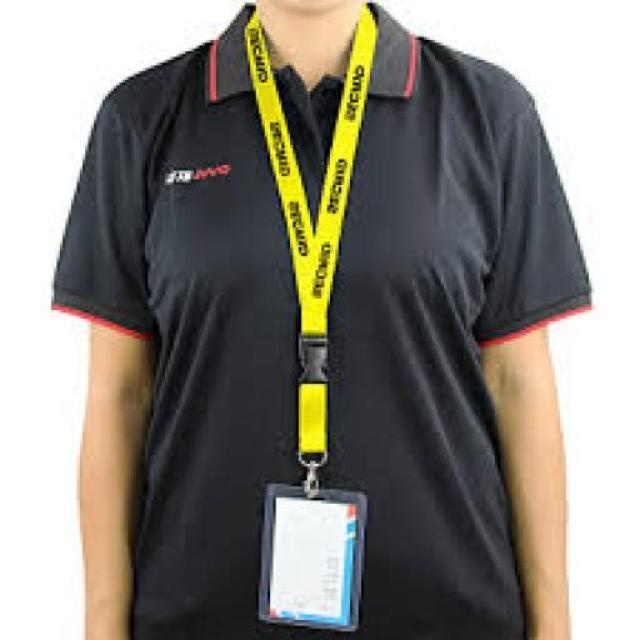ID_card: (241, 16, 380, 631)
